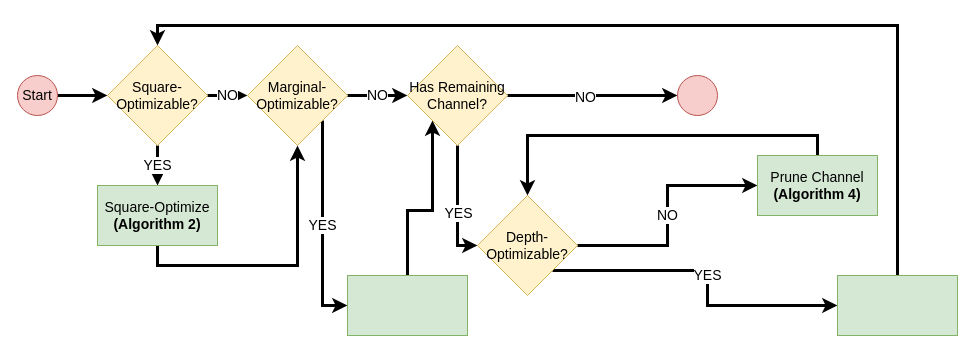
The diagram is 975 pixels wide and 353 high, and some of its shapes have lost their labels. Here are the shapes that lost their labels. From the top down, the centre of each, then its label:
(697,95): End
(407,305): Marginal-Optimize (Algorithm 3)
(897,305): Depth-Optimize (Algorithm 4)
